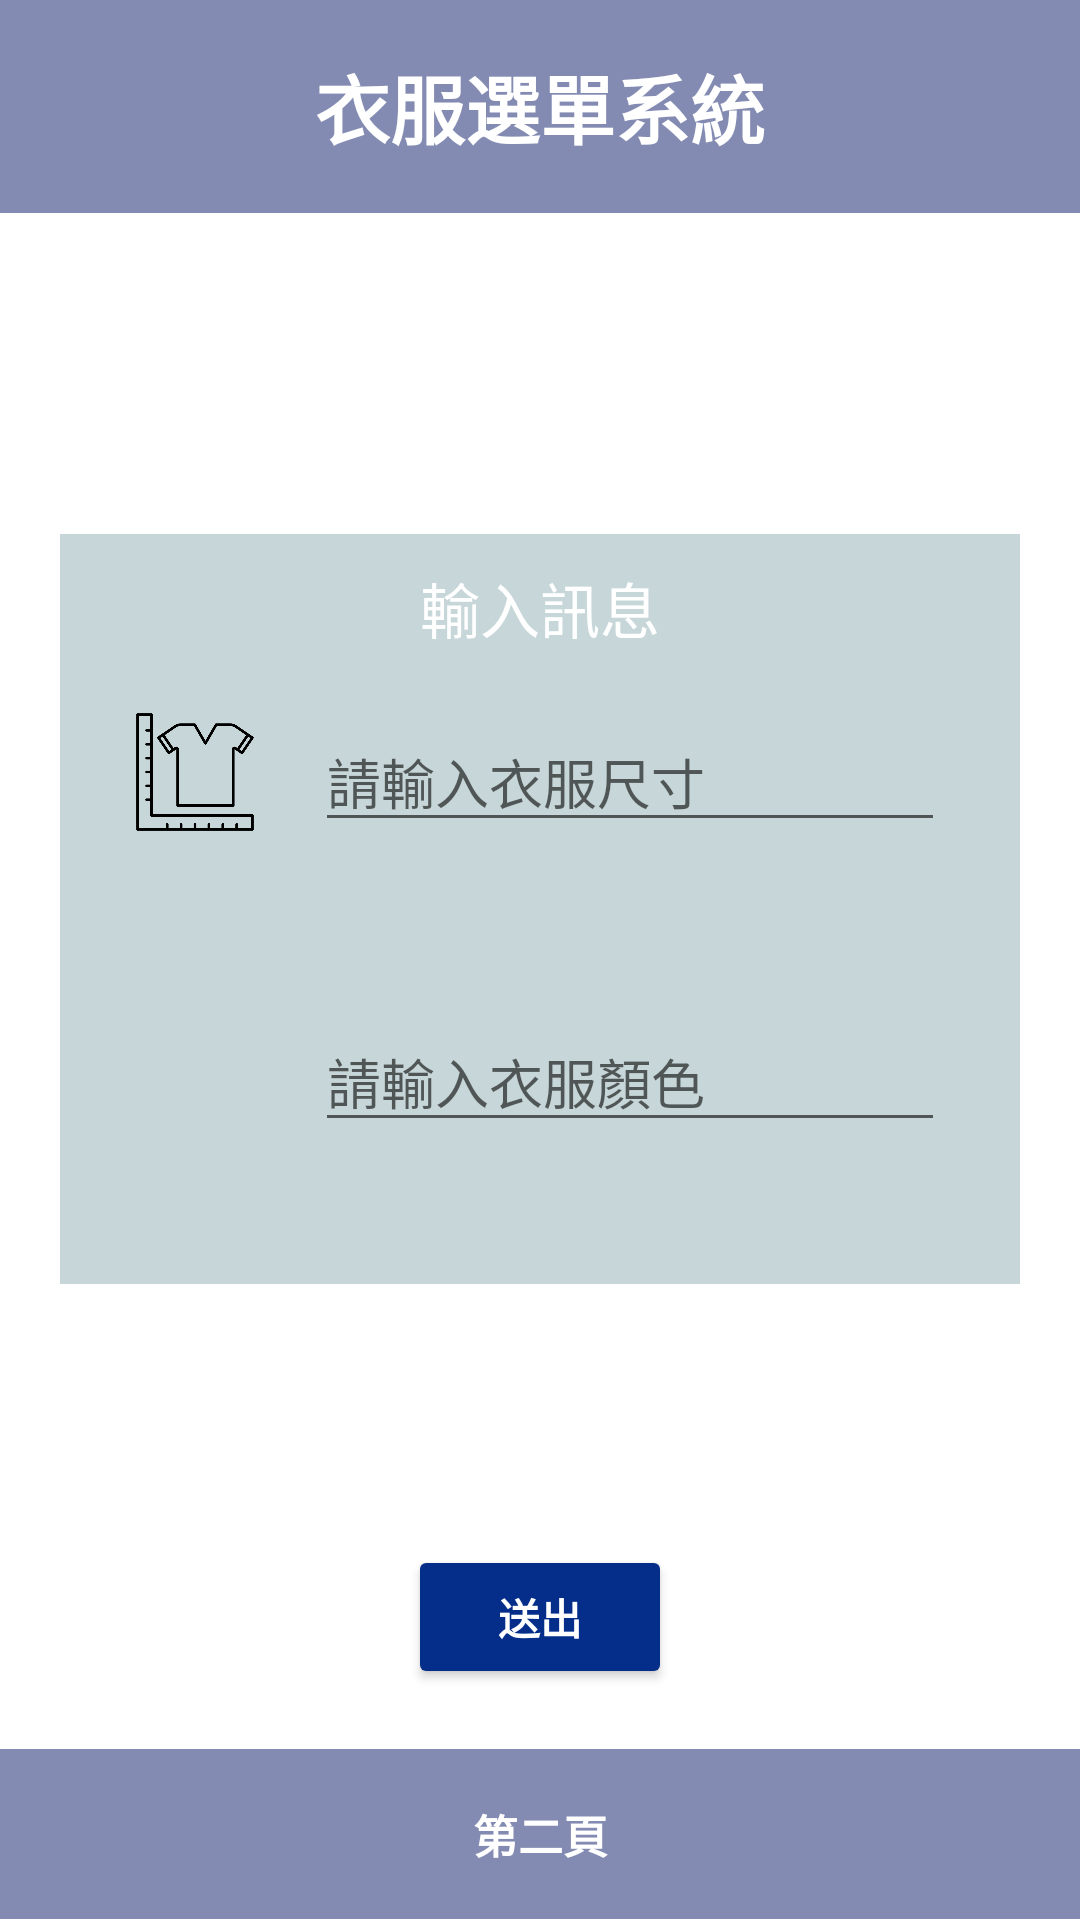

Icons on this 1080px x 1920px Android screen, each with its box as bbox(x1, y1, x2, y2):
measurement: bbox(136, 713, 254, 831)
